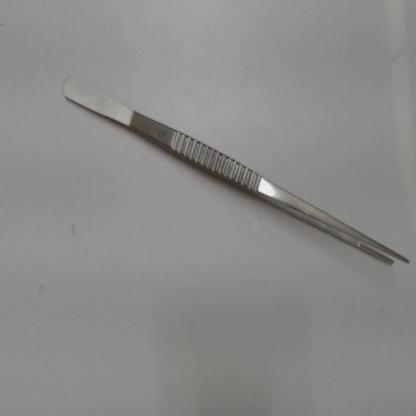DeBakey Dissector: (57, 61, 412, 281)
